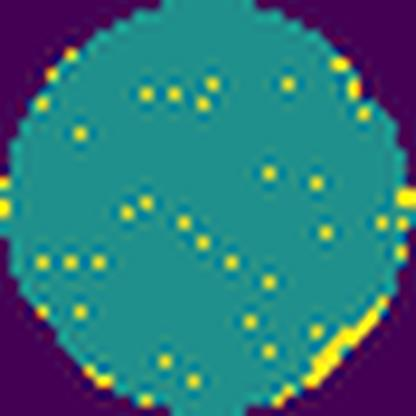Edge-Loc: (292, 292, 402, 394)
